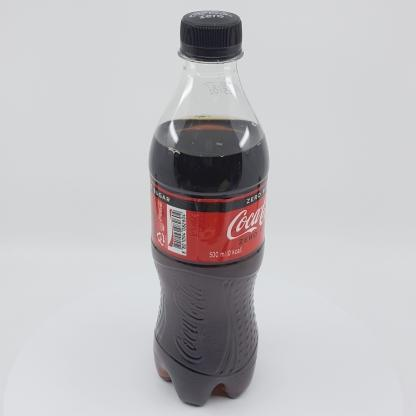------500ML: (148, 10, 269, 406)
